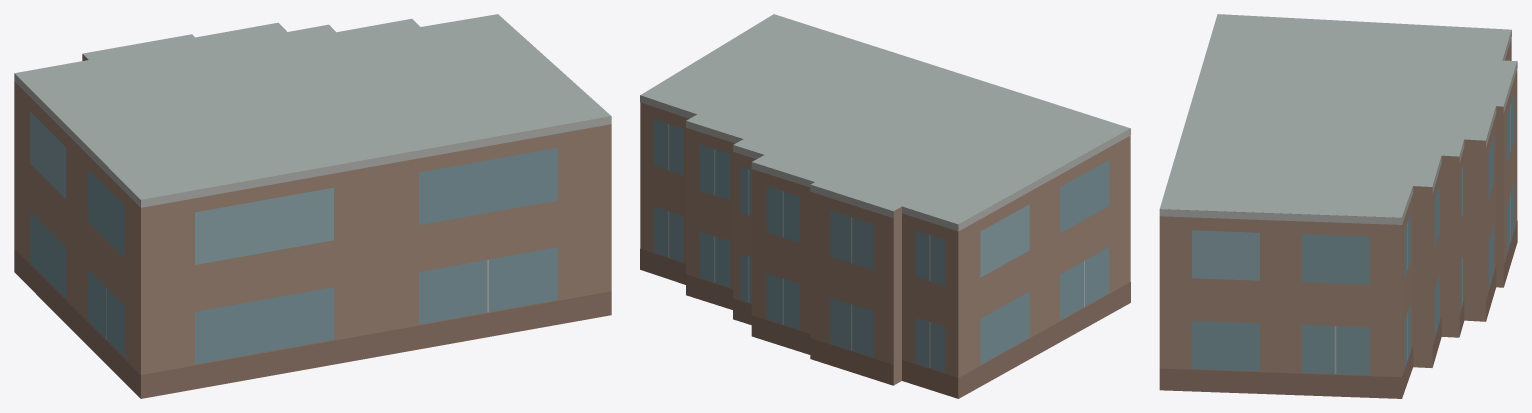
File: survey-upis-32812814.glb
3 views of the same model, side by side, from view 1: azimuth 30°, elevation 25°; view 2: azimuth 150°, elevation 25°; view 3: azimuth 270°, elevation 25° (orthographic). The views are drawn at different scales.
Parts seen in each view (by area): view 1: survey-upis-32812814.tmp; view 2: survey-upis-32812814.tmp; view 3: survey-upis-32812814.tmp.
Part boxes in pixels (x1,y1,x2,y2): survey-upis-32812814.tmp: (14,14,611,398); survey-upis-32812814.tmp: (640,14,1130,398); survey-upis-32812814.tmp: (1159,14,1517,398).
Bounding box in the file's own units: 14.72 × 6.1 × 10.93.
